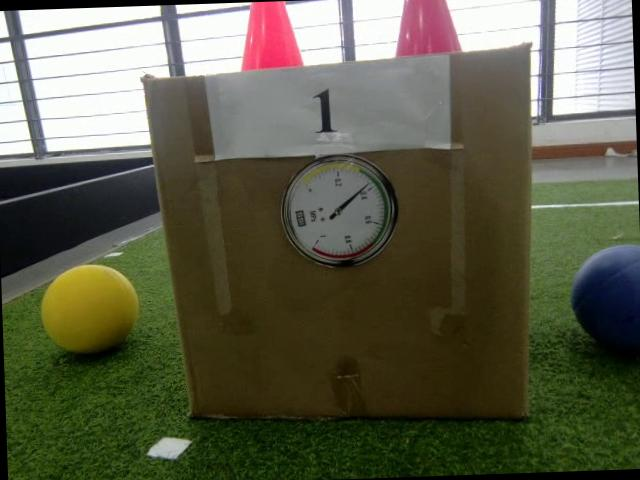1: (312, 88, 338, 134)
Dashboard: (281, 154, 398, 270)
blue_ball: (567, 246, 640, 358)
orange_barrel: (238, 0, 306, 70)
red_barrel: (393, 0, 464, 57)
ssi: (294, 210, 306, 227)
yellow_ball: (39, 261, 142, 356)
